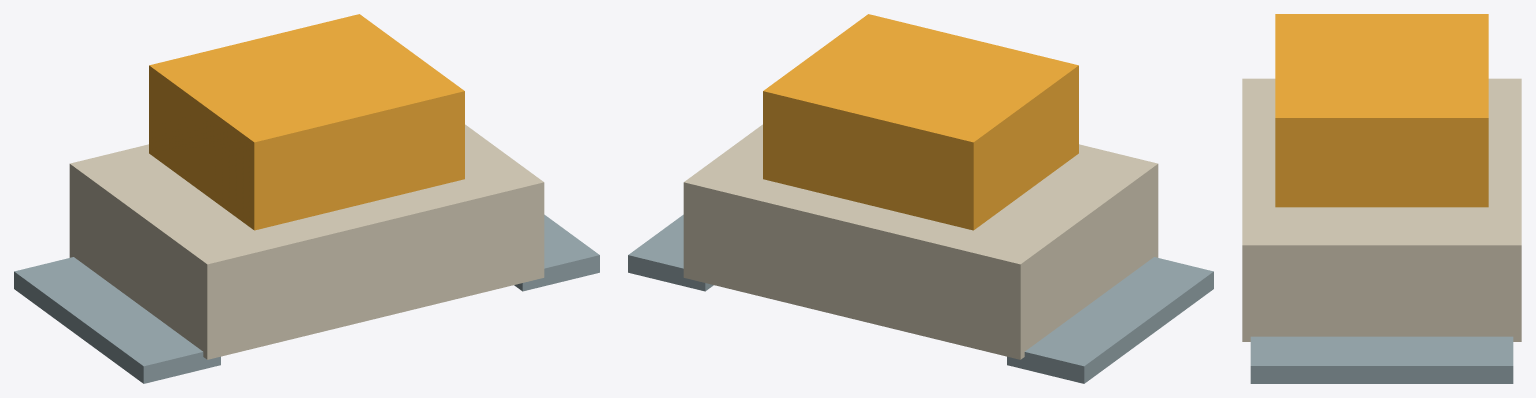
Rendered from 49_L97_LED2_LED.fbx.
3 views of the same model, side by side, from view 1: azimuth 30°, elevation 25°; view 2: azimuth 150°, elevation 25°; view 3: azimuth 270°, elevation 25° (orthographic).
Visible parts, largest first — view 1: LED2_base, LED2_lens, LED2_pad (×2); view 2: LED2_base, LED2_lens, LED2_pad (×2); view 3: LED2_base, LED2_lens, LED2_pad.
Part boxes in pixels (left/top/right/bottom): LED2_base: left=69, top=124, right=544, bottom=359; LED2_lens: left=149, top=14, right=464, bottom=230; LED2_pad (×2): left=14, top=214, right=599, bottom=383; LED2_base: left=683, top=124, right=1158, bottom=359; LED2_lens: left=763, top=14, right=1078, bottom=230; LED2_pad (×2): left=628, top=214, right=1213, bottom=383; LED2_base: left=1242, top=78, right=1521, bottom=341; LED2_lens: left=1275, top=14, right=1488, bottom=207; LED2_pad: left=1250, top=336, right=1513, bottom=383.
Size of the model in its own units: 0.00325 by 0.00138 by 0.0017.
